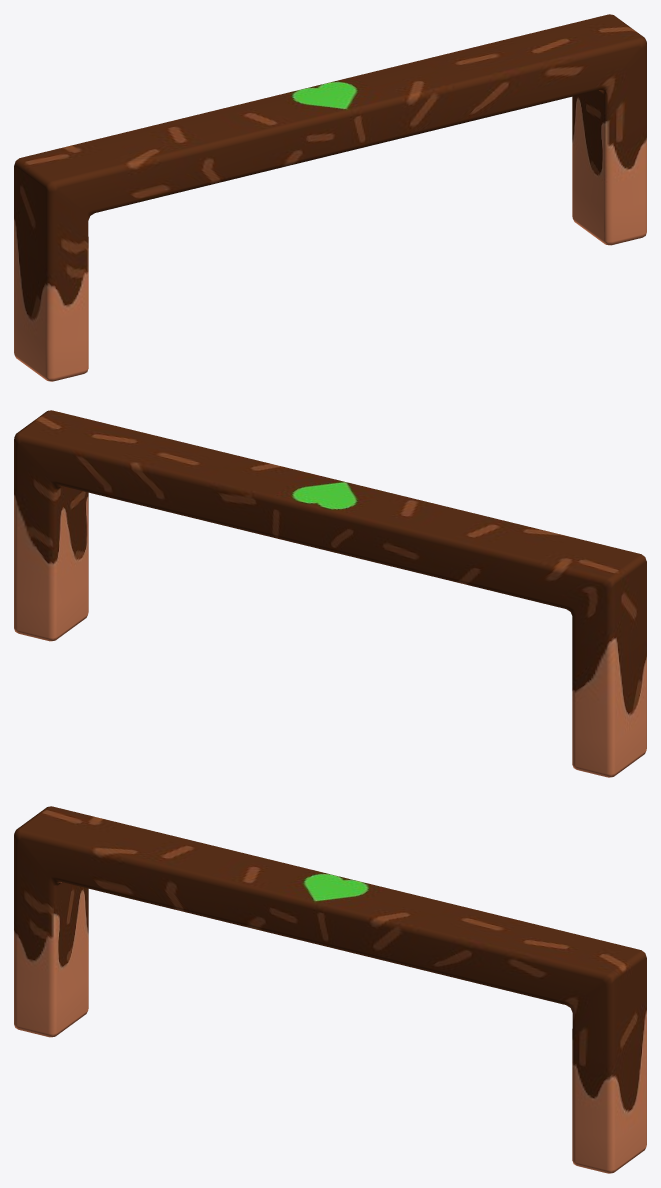
3 renders of one model, top to bottom at view 1: azimuth 30°, elevation 25°; view 2: azimuth 150°, elevation 25°; view 3: azimuth 330°, elevation 25°, orthographic.
Visible parts, largest first — view 1: shape1_5; view 2: shape1_5; view 3: shape1_5.
Boxes of the visible parts, bbox=[...] form: shape1_5: bbox=[14, 14, 646, 381]; shape1_5: bbox=[14, 410, 646, 777]; shape1_5: bbox=[14, 806, 646, 1173].
Size of the model in its own units: 47 by 15 by 5.
